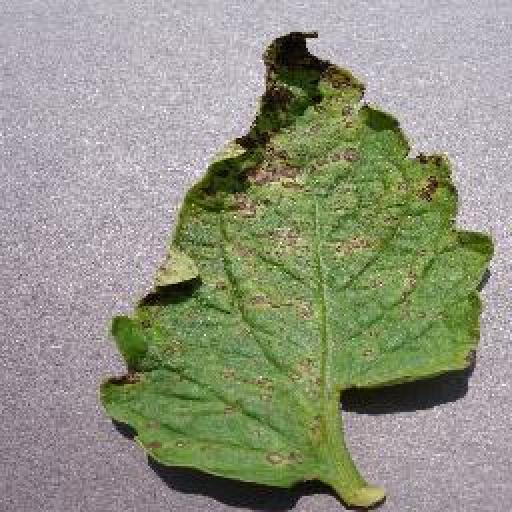Septoria: (97, 28, 492, 491)
